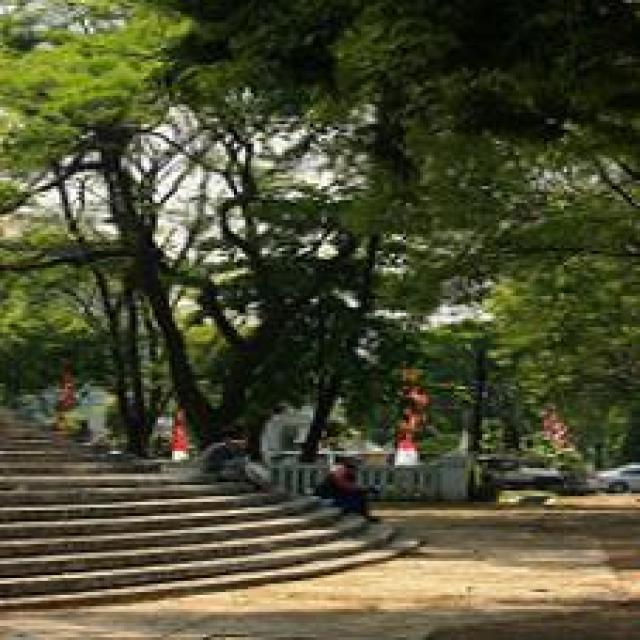stair: (6, 423, 398, 592)
